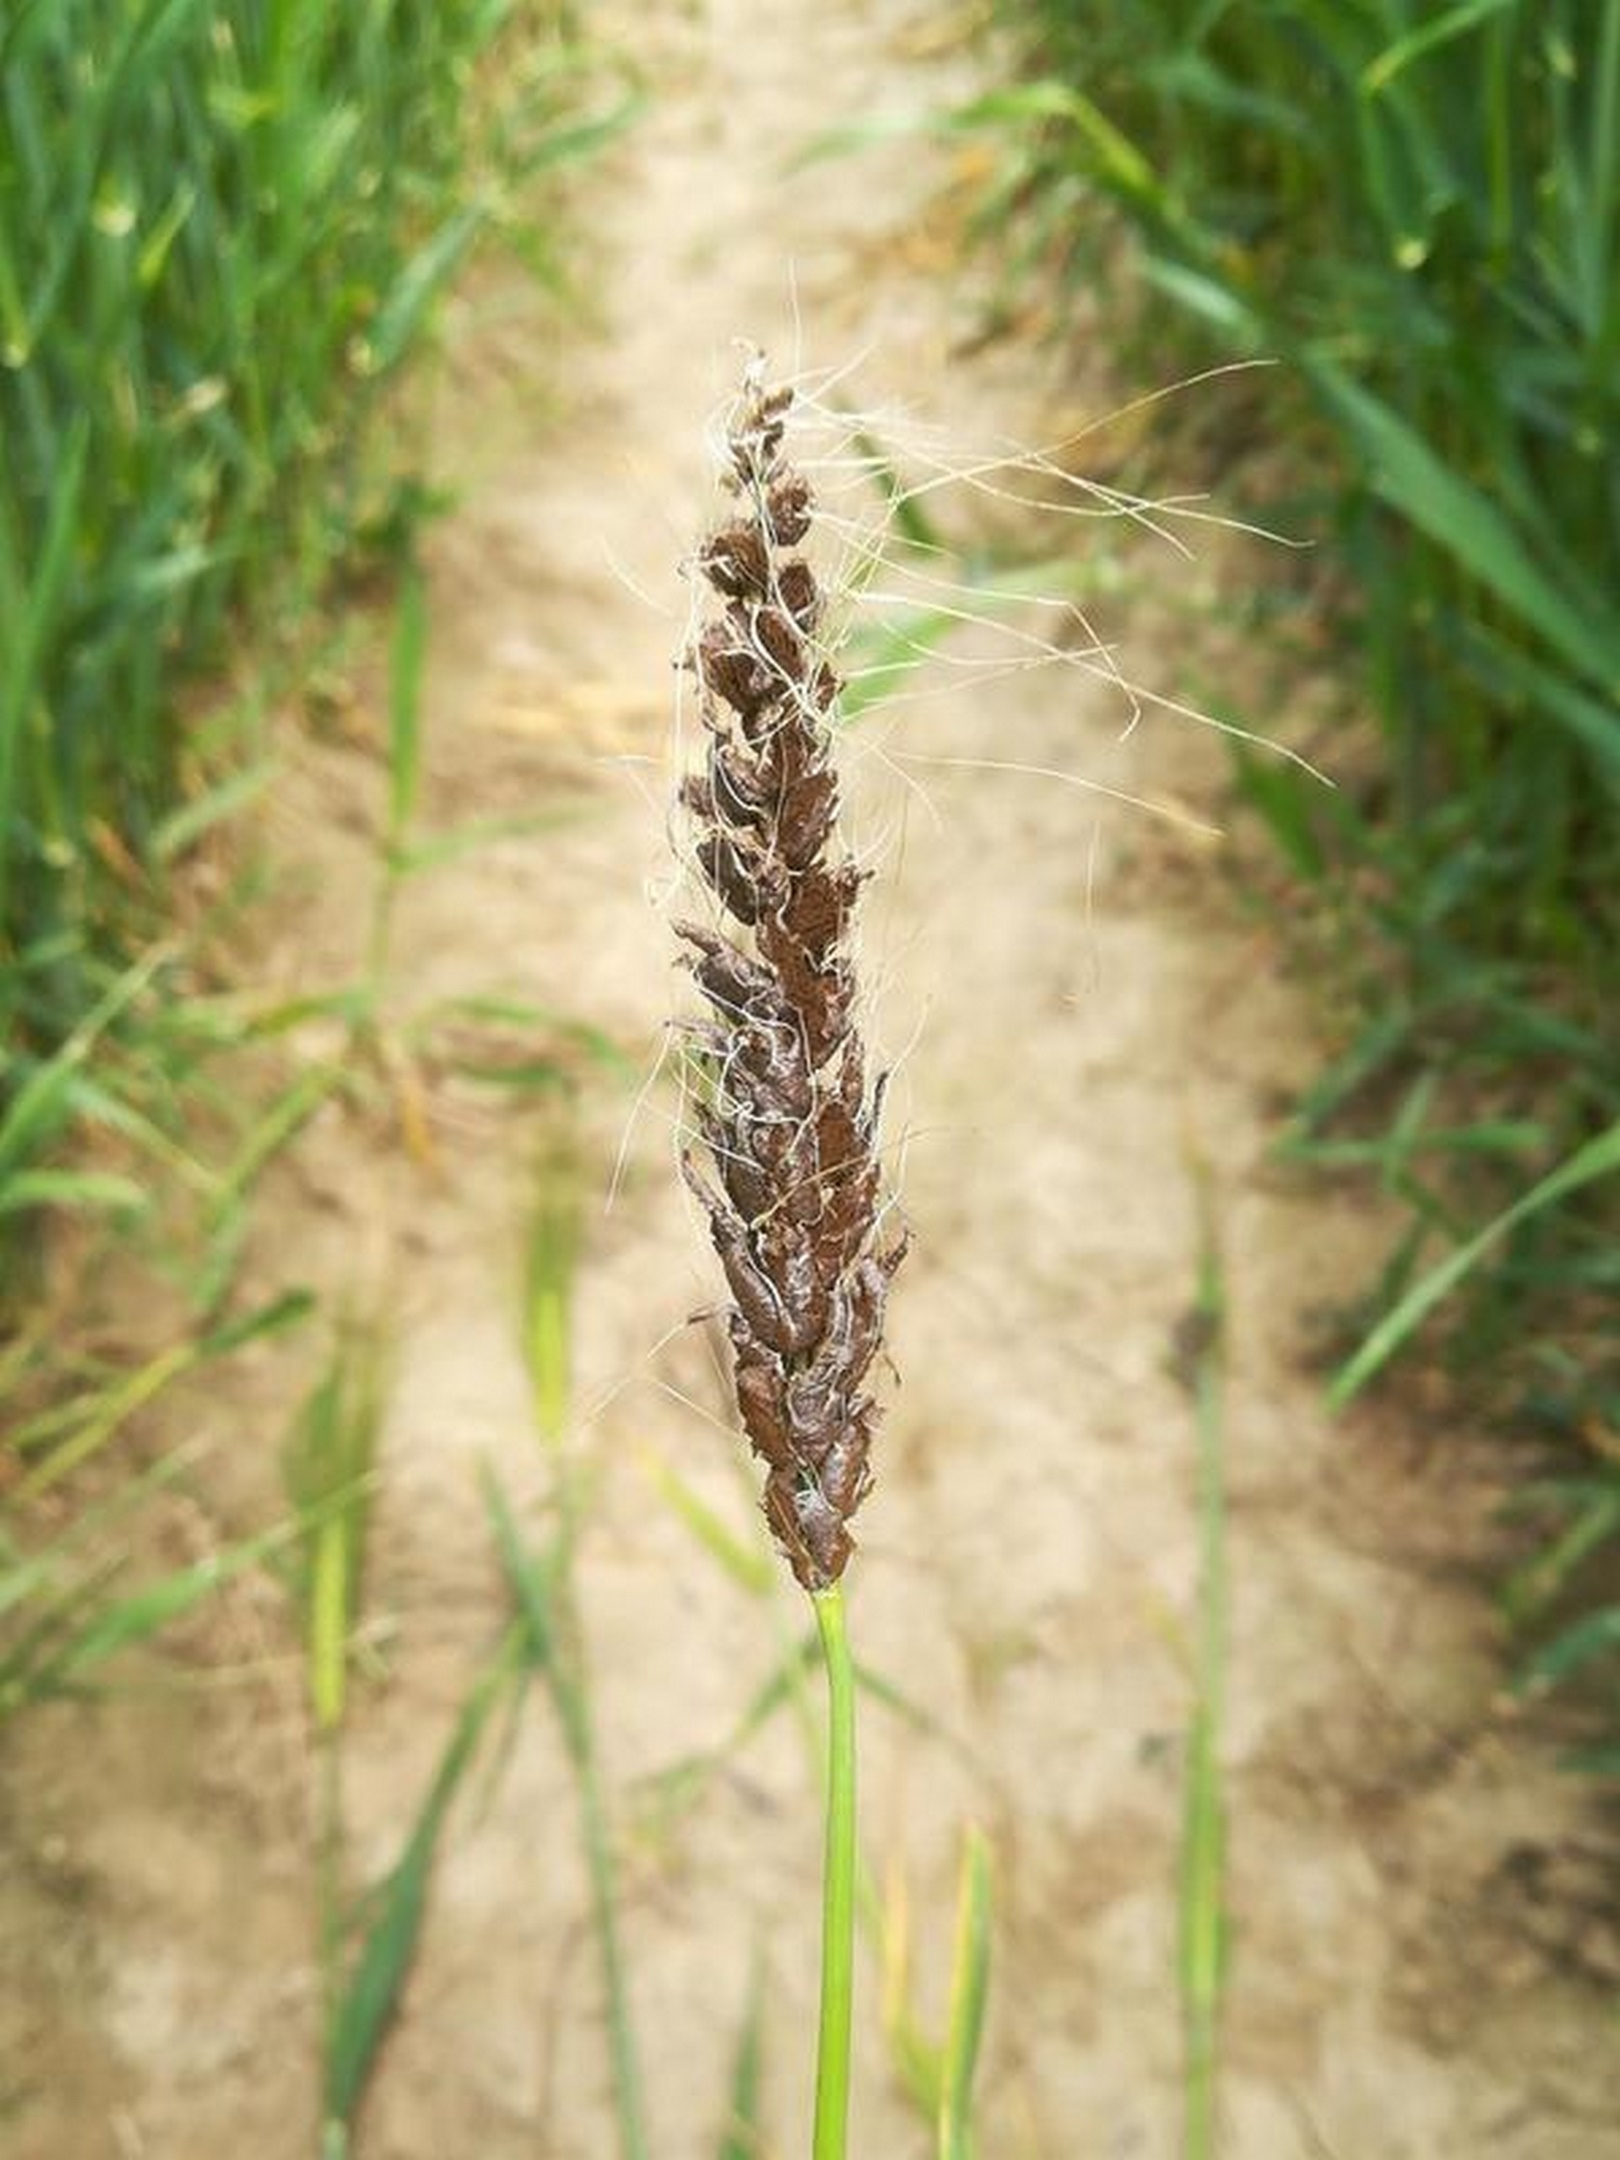Wheat Loose Smut: (584, 333, 1023, 1260)
